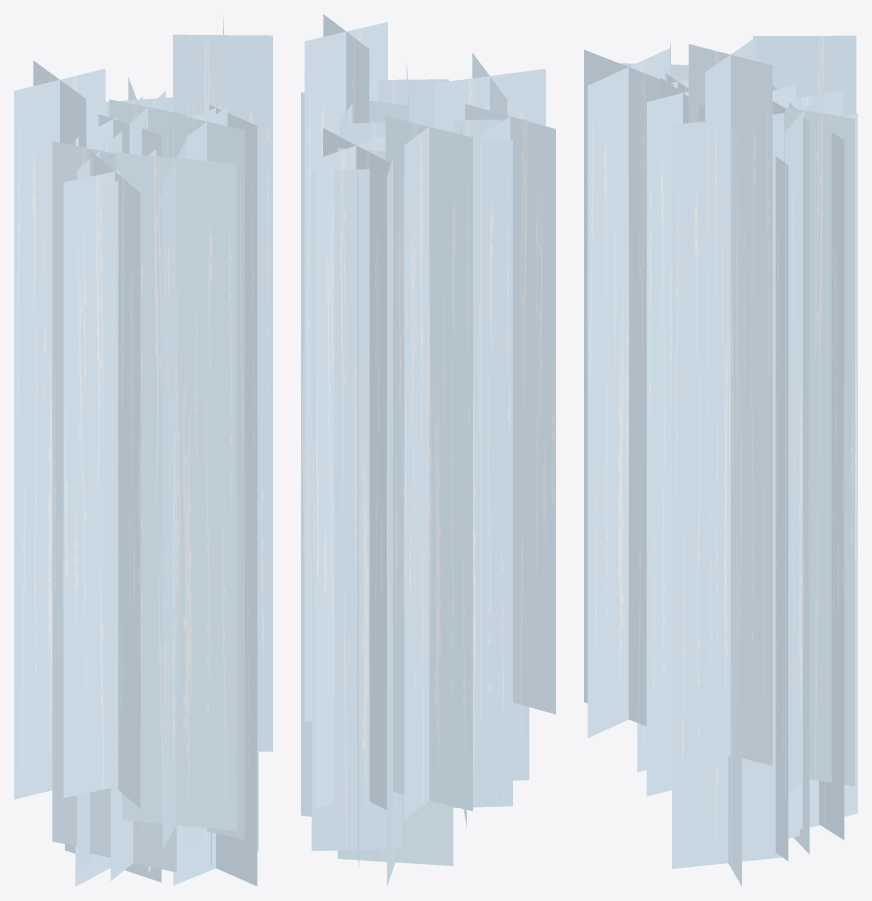
File: citadel_fx_rain.glb
3 renders of one model, left to right at view 1: azimuth 30°, elevation 25°; view 2: azimuth 150°, elevation 25°; view 3: azimuth 270°, elevation 25°, orthographic. The views are drawn at different scales.
Visible parts, largest first — view 1: fx_rain_rain_card_cards; view 2: fx_rain_rain_card_cards; view 3: fx_rain_rain_card_cards.
Boxes of the visible parts, x1,y1,x2,y2 form: fx_rain_rain_card_cards: (14,14,272,886); fx_rain_rain_card_cards: (301,14,555,886); fx_rain_rain_card_cards: (584,35,857,886).
Bounding box in the file's own units: 0.4437 × 1.52 × 0.4639.
1 material, 1 textured.
